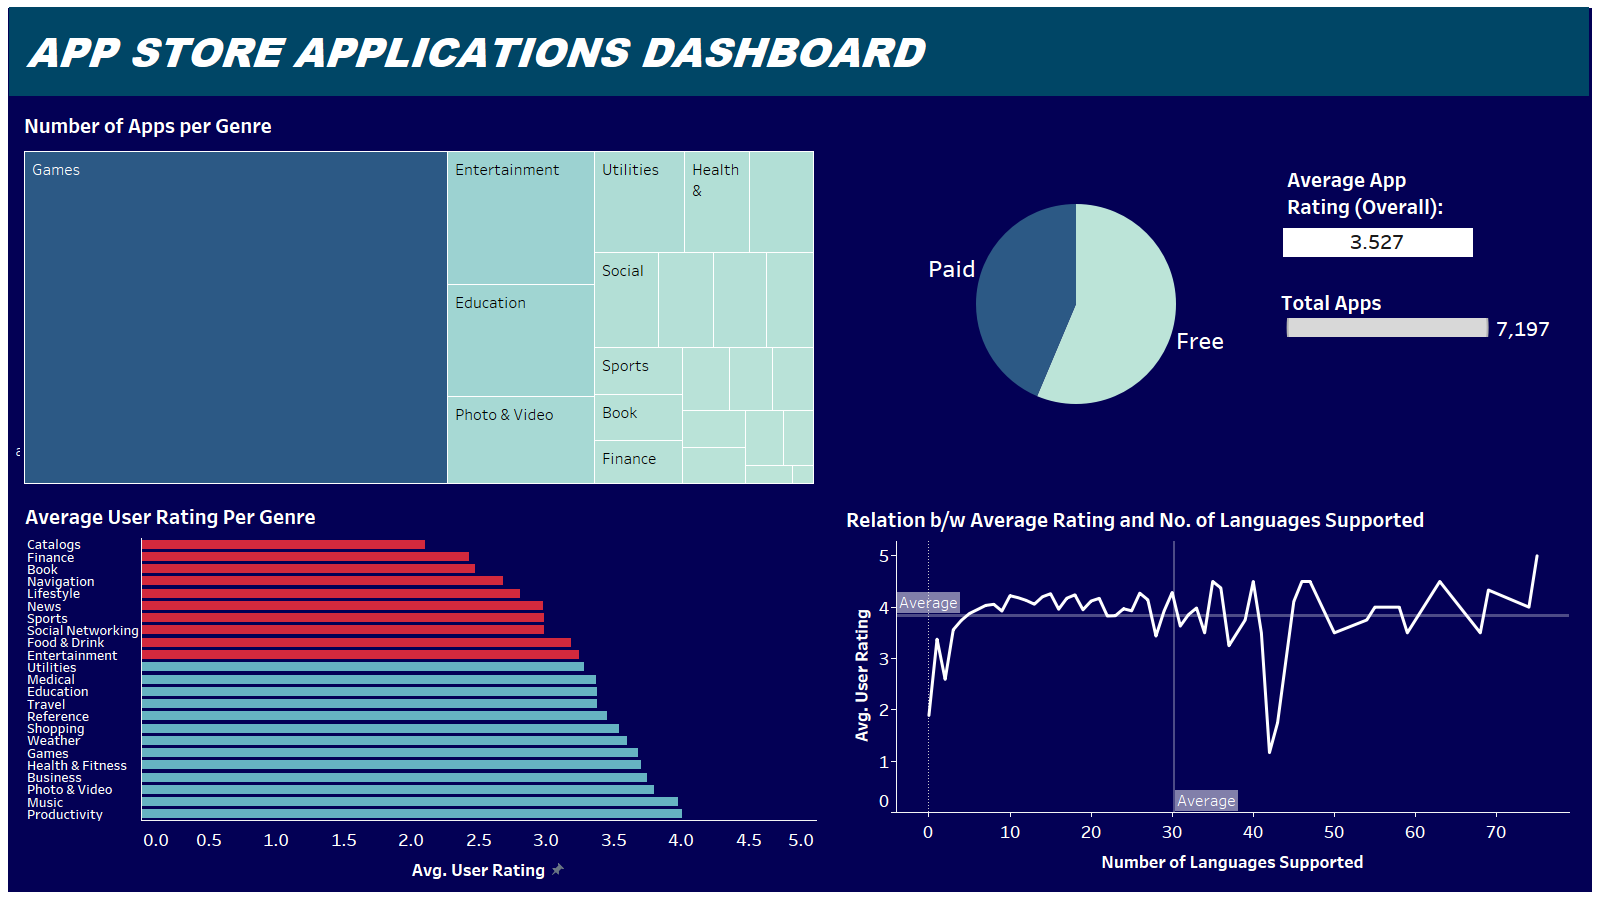

Layout of this report page (visuals, bound fields, positions):
{"tool":"tableau","page":{"name":"Dashboard 1","canvas":[1600,900],"ordinal":0},"visuals":[{"type":"text","box":[8,8,1584,884]},{"type":"text","box":[19,14,917,75]},{"type":"worksheet","title":"Share of Free and Paid Apps","mark":"Pie","box":[876,104,449,405]},{"type":"worksheet","title":"Number of Apps per Genre","mark":"Automatic","box":[20,105,859,388]},{"type":"worksheet","title":"Sheet 5","mark":"Automatic","box":[1283,159,241,108]},{"type":"legend","title":"Share of Free and Paid Apps","param":"[federated.0l8596017v359611k20950lpiejt].[cnt:price:qk]","box":[1280,286,276,73]},{"type":"worksheet","title":"Average Rating  per Genre","mark":"Automatic","rows":["prime_genre"],"cols":["user_rating"],"box":[21,496,795,392]},{"type":"worksheet","title":"Relation between Avg Rating and Languages","mark":"Automatic","rows":["user_rating"],"cols":["lang_num"],"box":[842,499,727,381]}]}

Visuals, with their boxes in screenshot pixels (x1, y1, x2, y2), scaled from the page's 1600x900 canvas onto the 1600x900 screenshot:
text: bbox=[8, 8, 1592, 892]
text: bbox=[19, 14, 936, 89]
"Share of Free and Paid Apps" worksheet (Pie marks): bbox=[876, 104, 1325, 509]
"Number of Apps per Genre" worksheet: bbox=[20, 105, 879, 493]
"Sheet 5" worksheet: bbox=[1283, 159, 1524, 267]
"Share of Free and Paid Apps" legend: bbox=[1280, 286, 1556, 359]
"Average Rating  per Genre" worksheet: bbox=[21, 496, 816, 888]
"Relation between Avg Rating and Languages" worksheet: bbox=[842, 499, 1569, 880]
